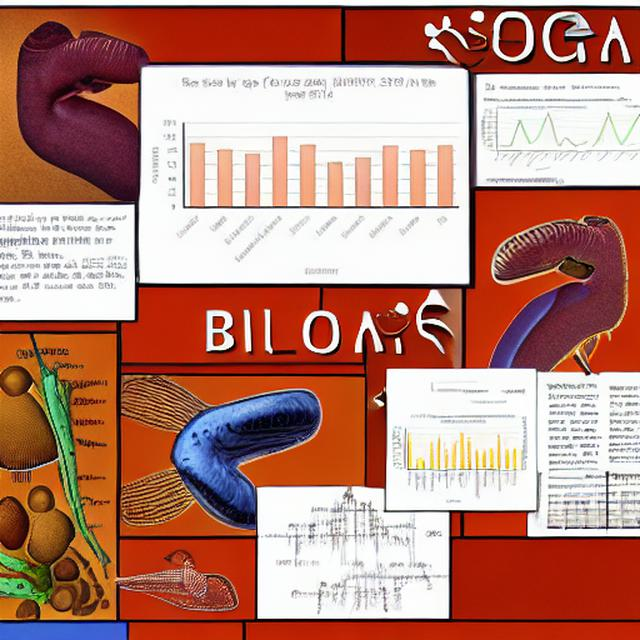Graph: (143, 74, 466, 280), (388, 411, 521, 505), (478, 103, 593, 173)
